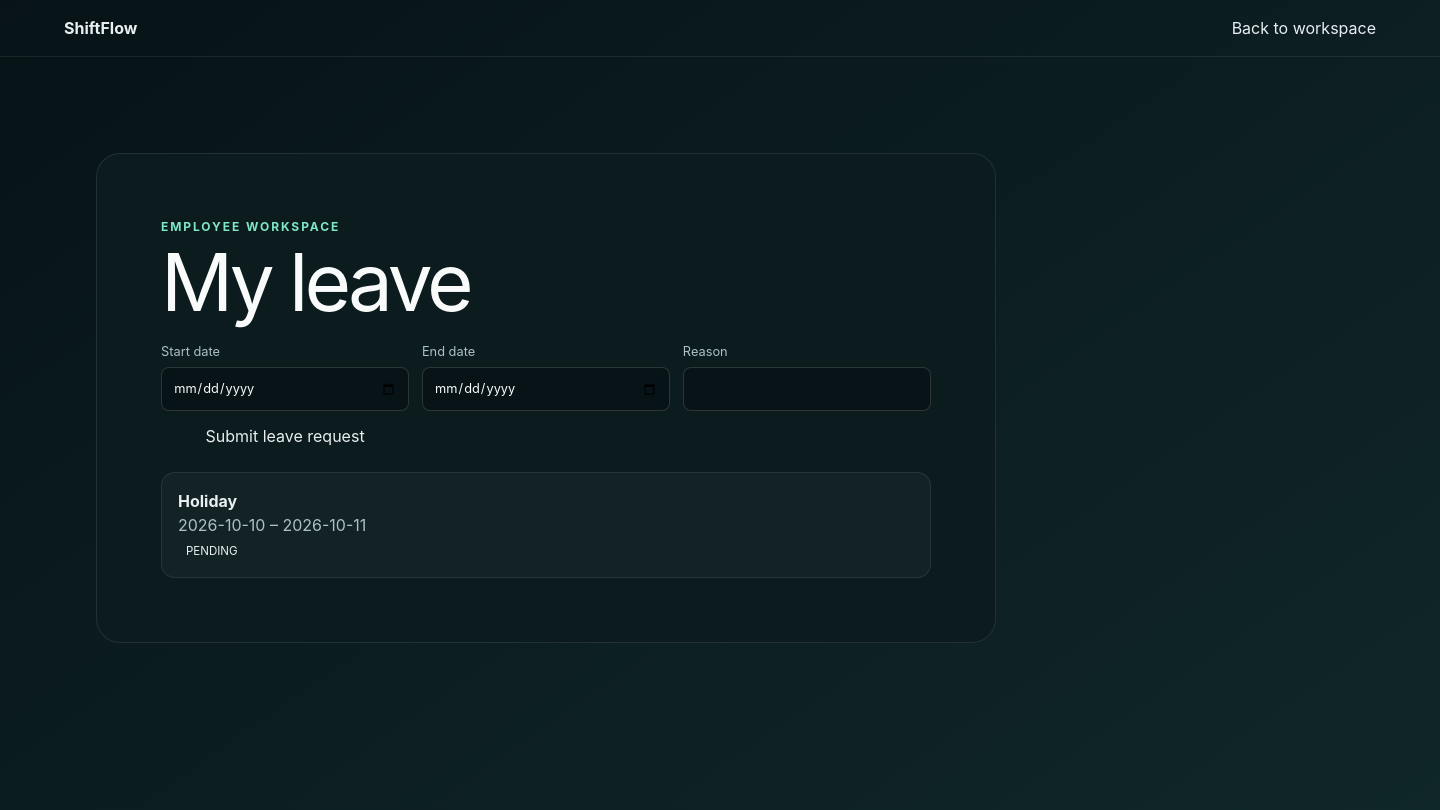
Test: leave UI › lets an employee submit and view leave status
Expected: the heading "My leave" is shown, x1=161 y1=233 x2=470 y2=330
Expected: the text "Holiday" is shown, x1=178 y1=490 x2=237 y2=510
Step 1. Type "2026-10-10" into the date field labelled "Start date" → (285, 389), box x1=161 y1=367 x2=409 y2=411
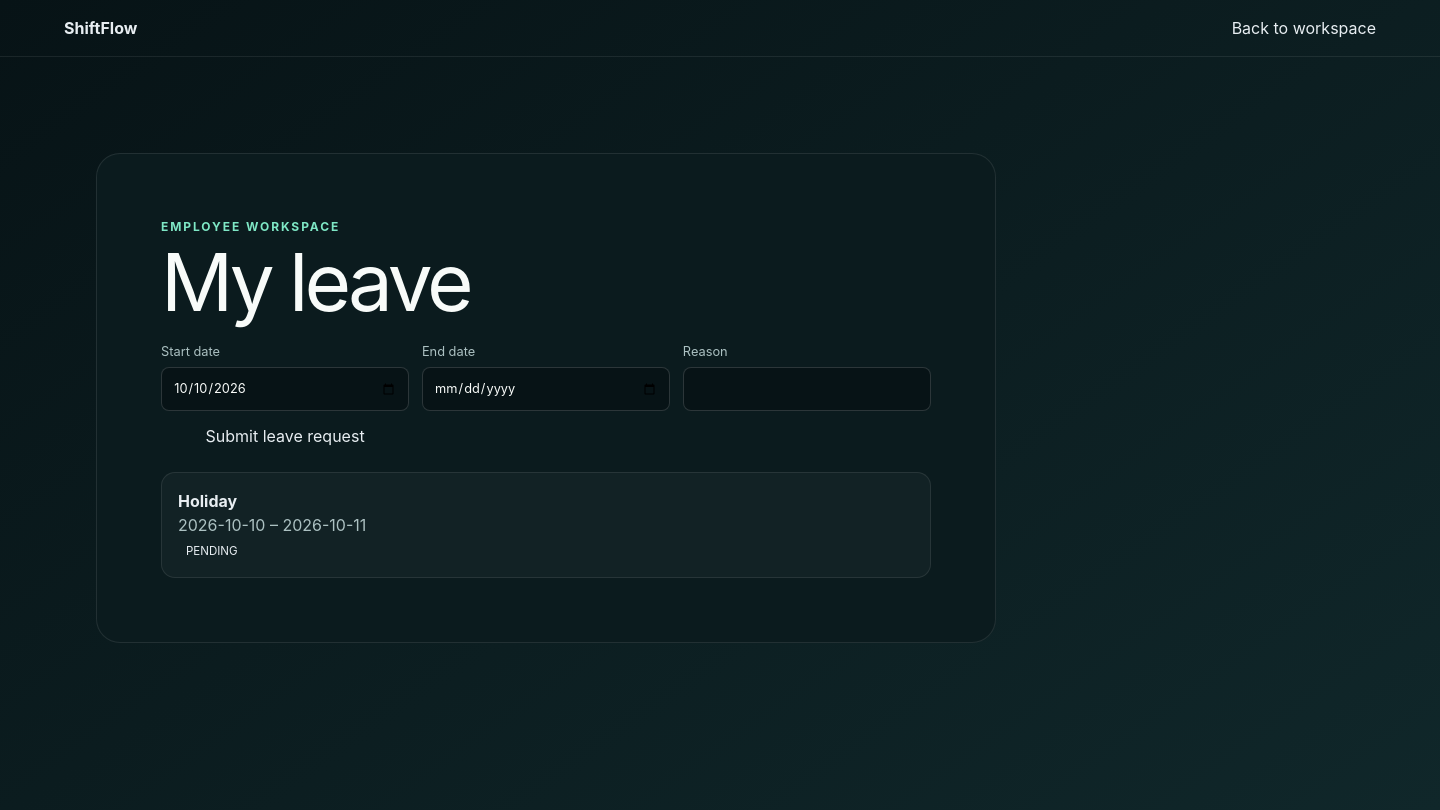
Step 2. Type "2026-10-11" into the date field labelled "End date" → (546, 389), box x1=422 y1=367 x2=670 y2=411
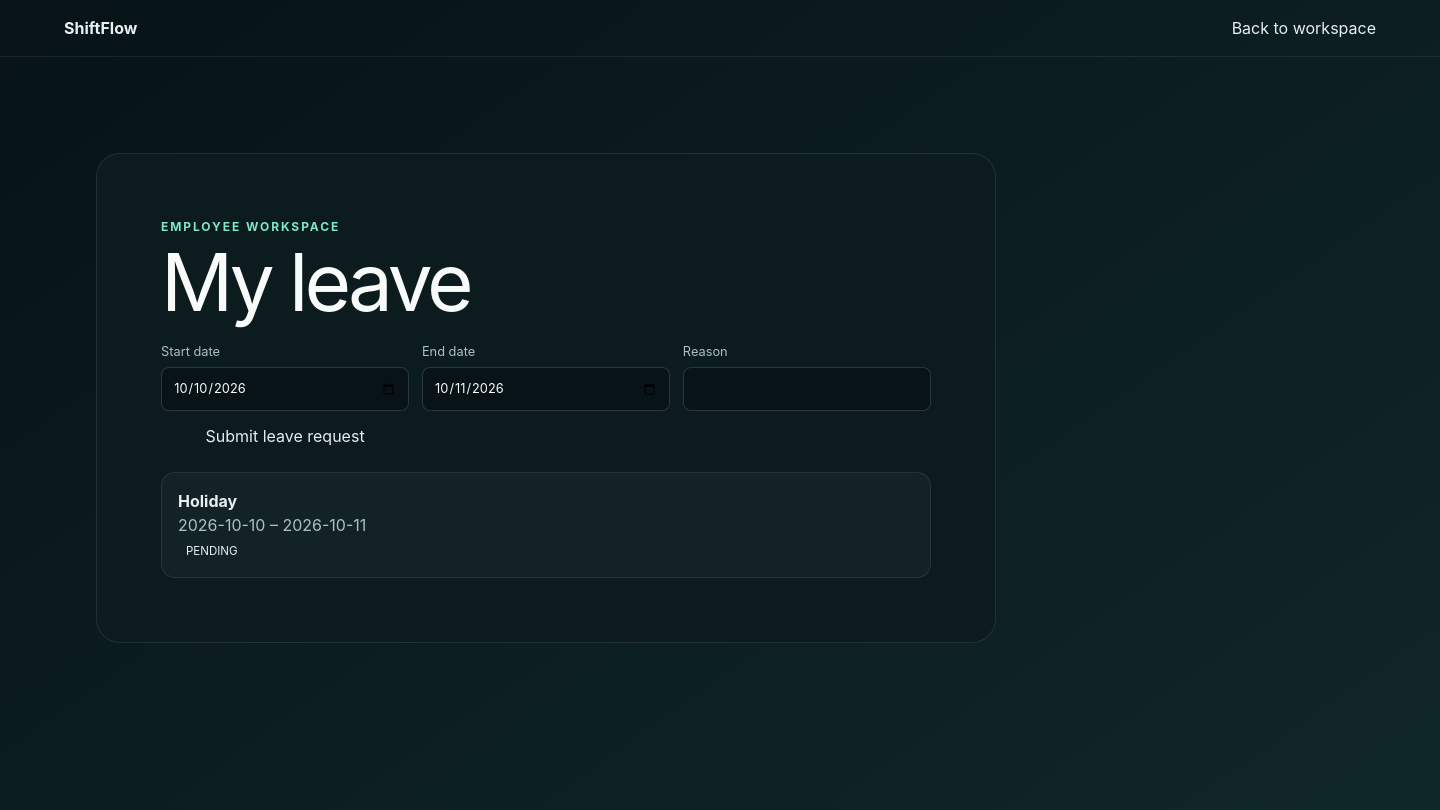
Step 3. Type "Holiday" into the field labelled "Reason" → (807, 389), box x1=683 y1=367 x2=931 y2=411
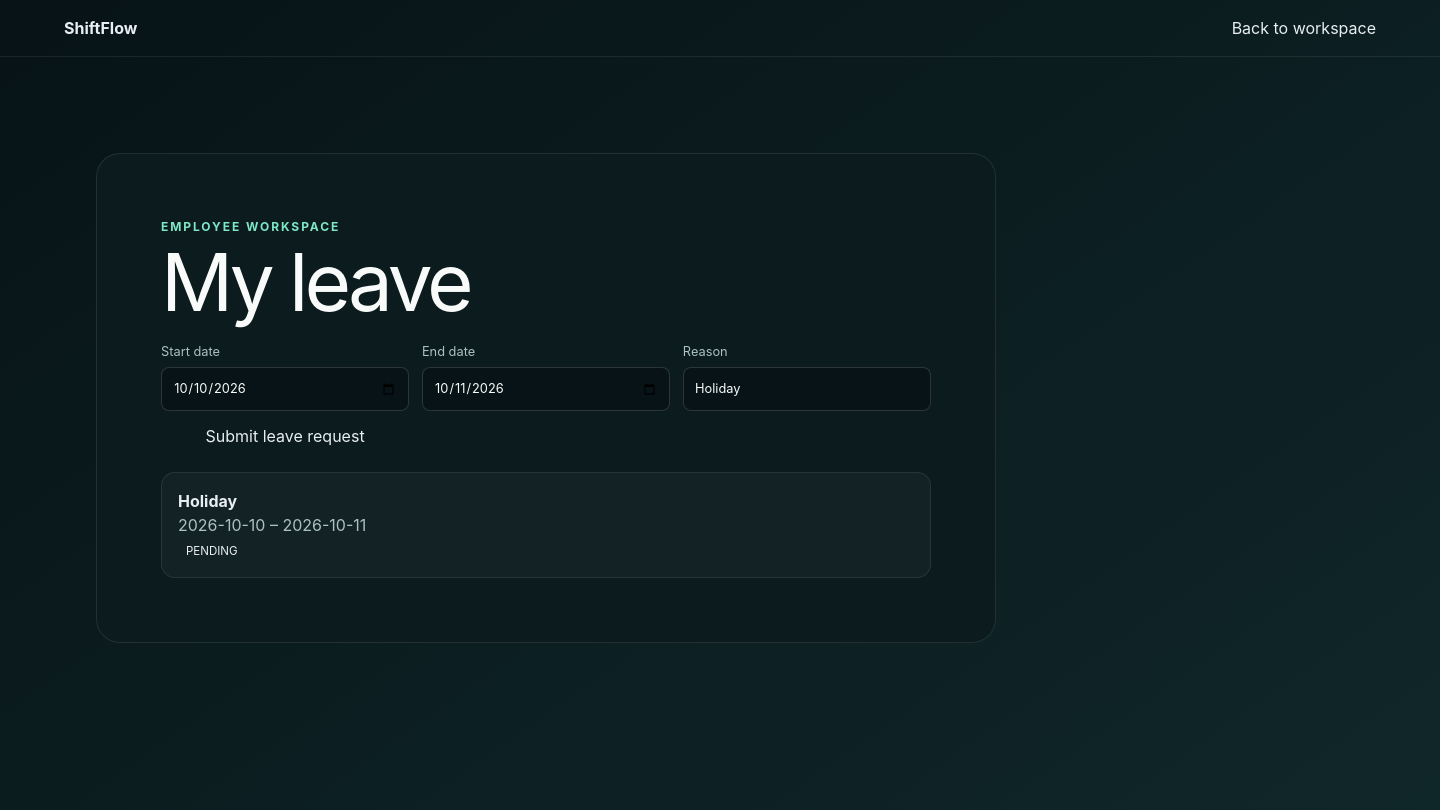
Step 4. Click the button "Submit leave request" → (285, 436), box x1=161 y1=424 x2=409 y2=448
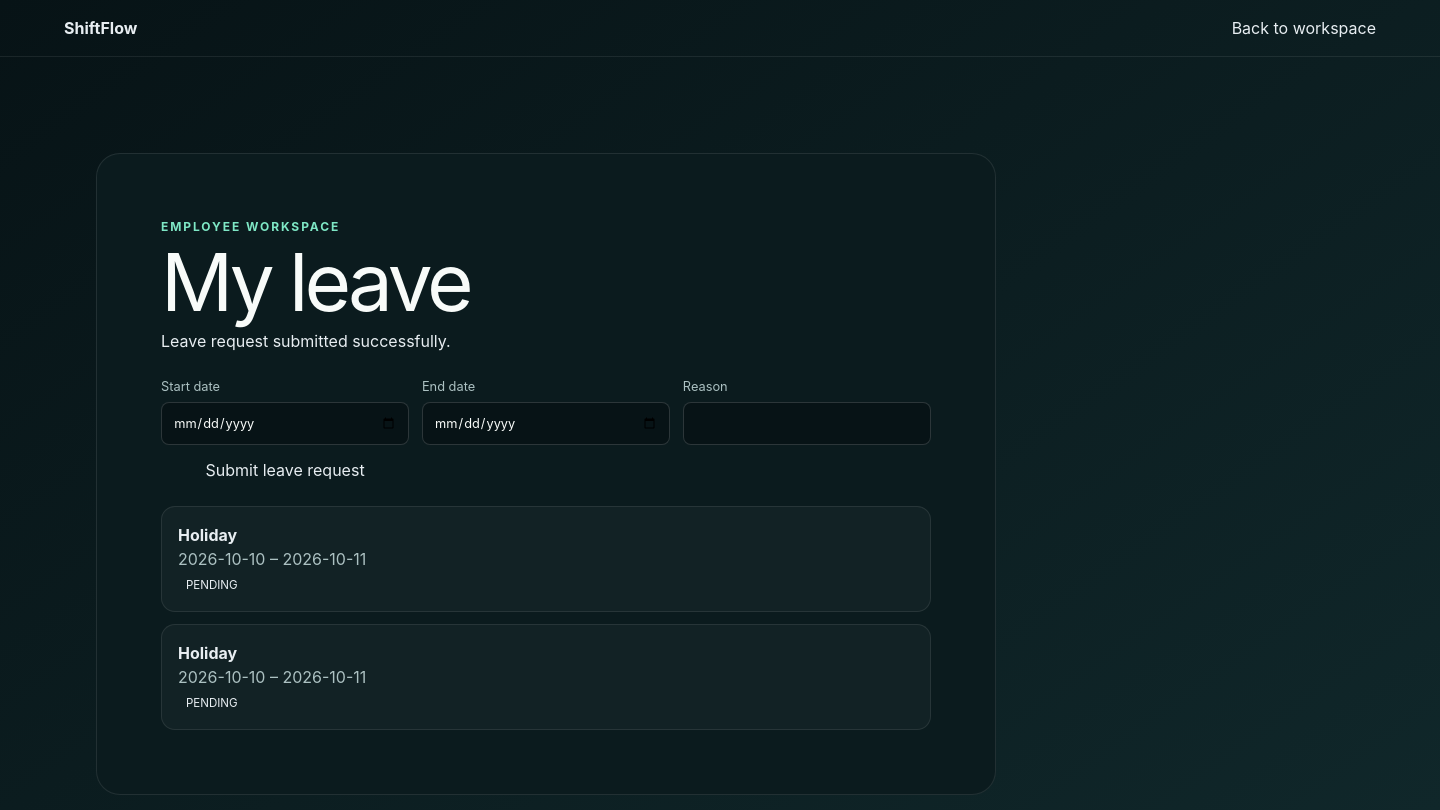
Now the text "Leave request submitted successfully." is shown, box x1=161 y1=331 x2=451 y2=351
